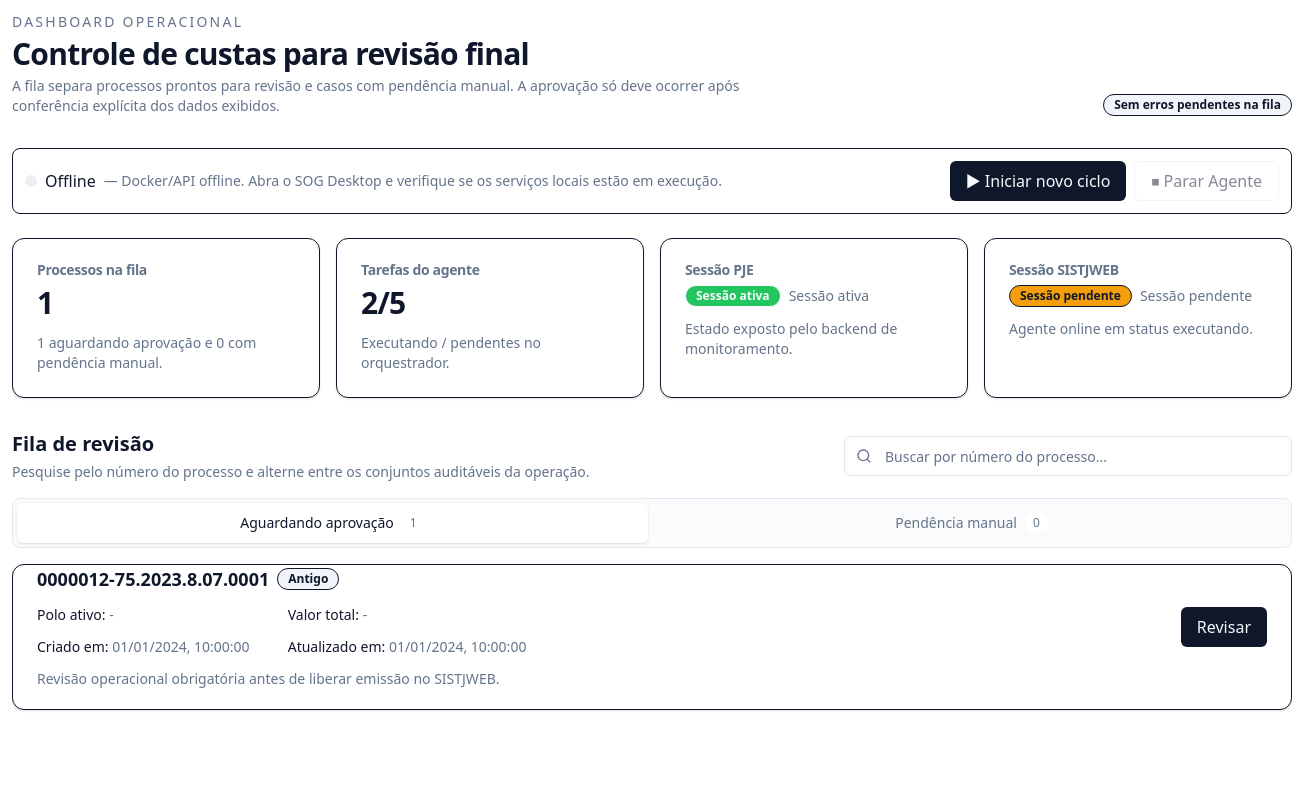
Test: Fila › limpa busca ao clicar no botão de limpar
Expected: the text "0000012-75.2023.8.07.0001" is shown, [37,565,269,593]
In the field labelled "Buscar por número do processo...": point(1068, 456) [844,436,1292,476], type "9999999"
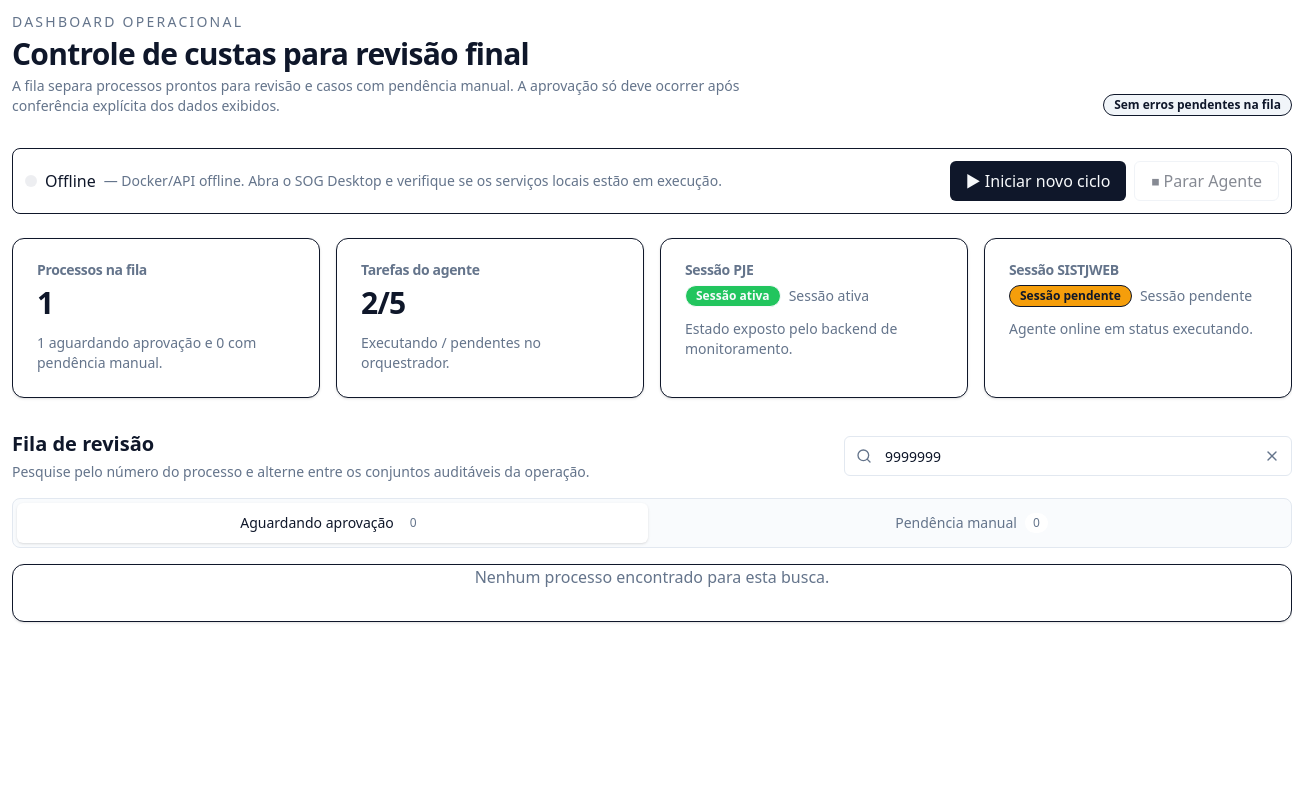
Expected: the text "Nenhum processo encontrado para esta busca." is shown, [475,566,829,588]
Click the button named "limpar busca": point(1272, 456) [1264,448,1280,464]
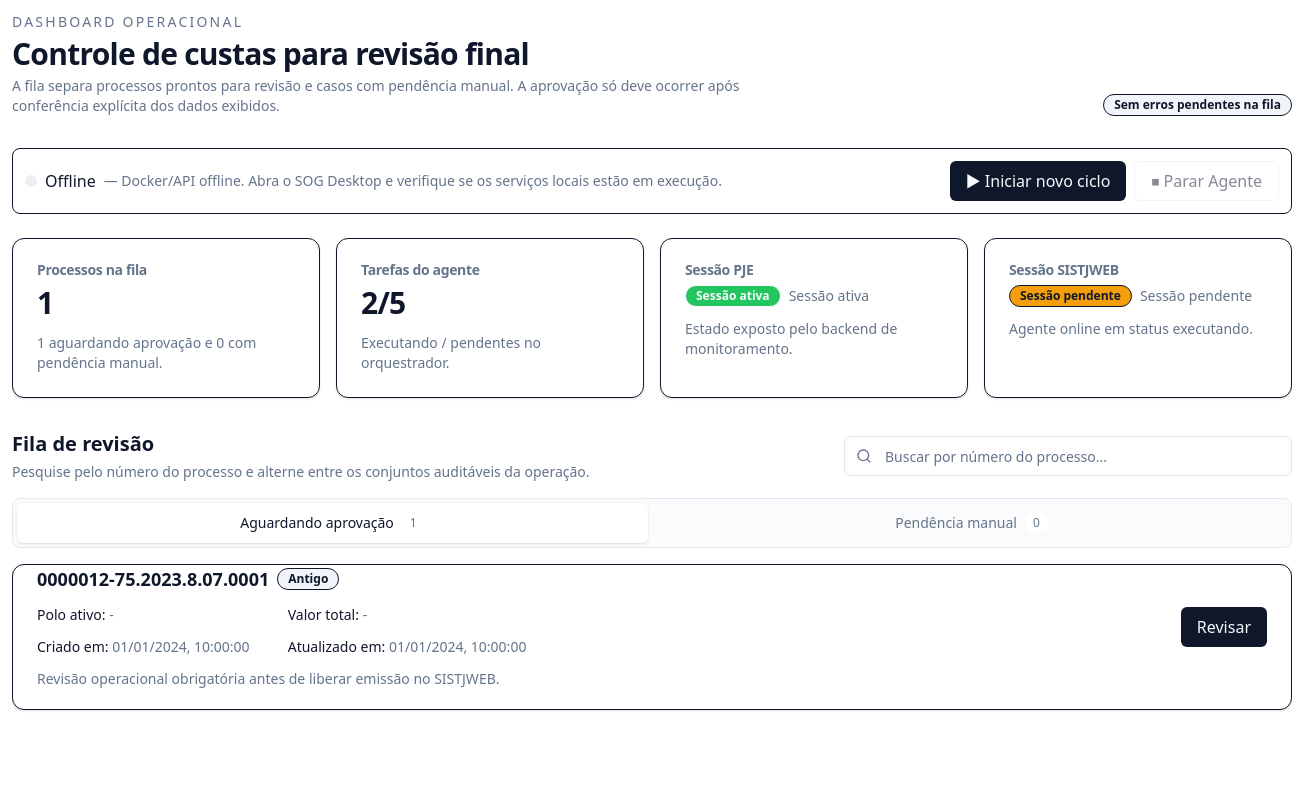
Expected: the text "0000012-75.2023.8.07.0001" is shown, [37,565,269,593]
